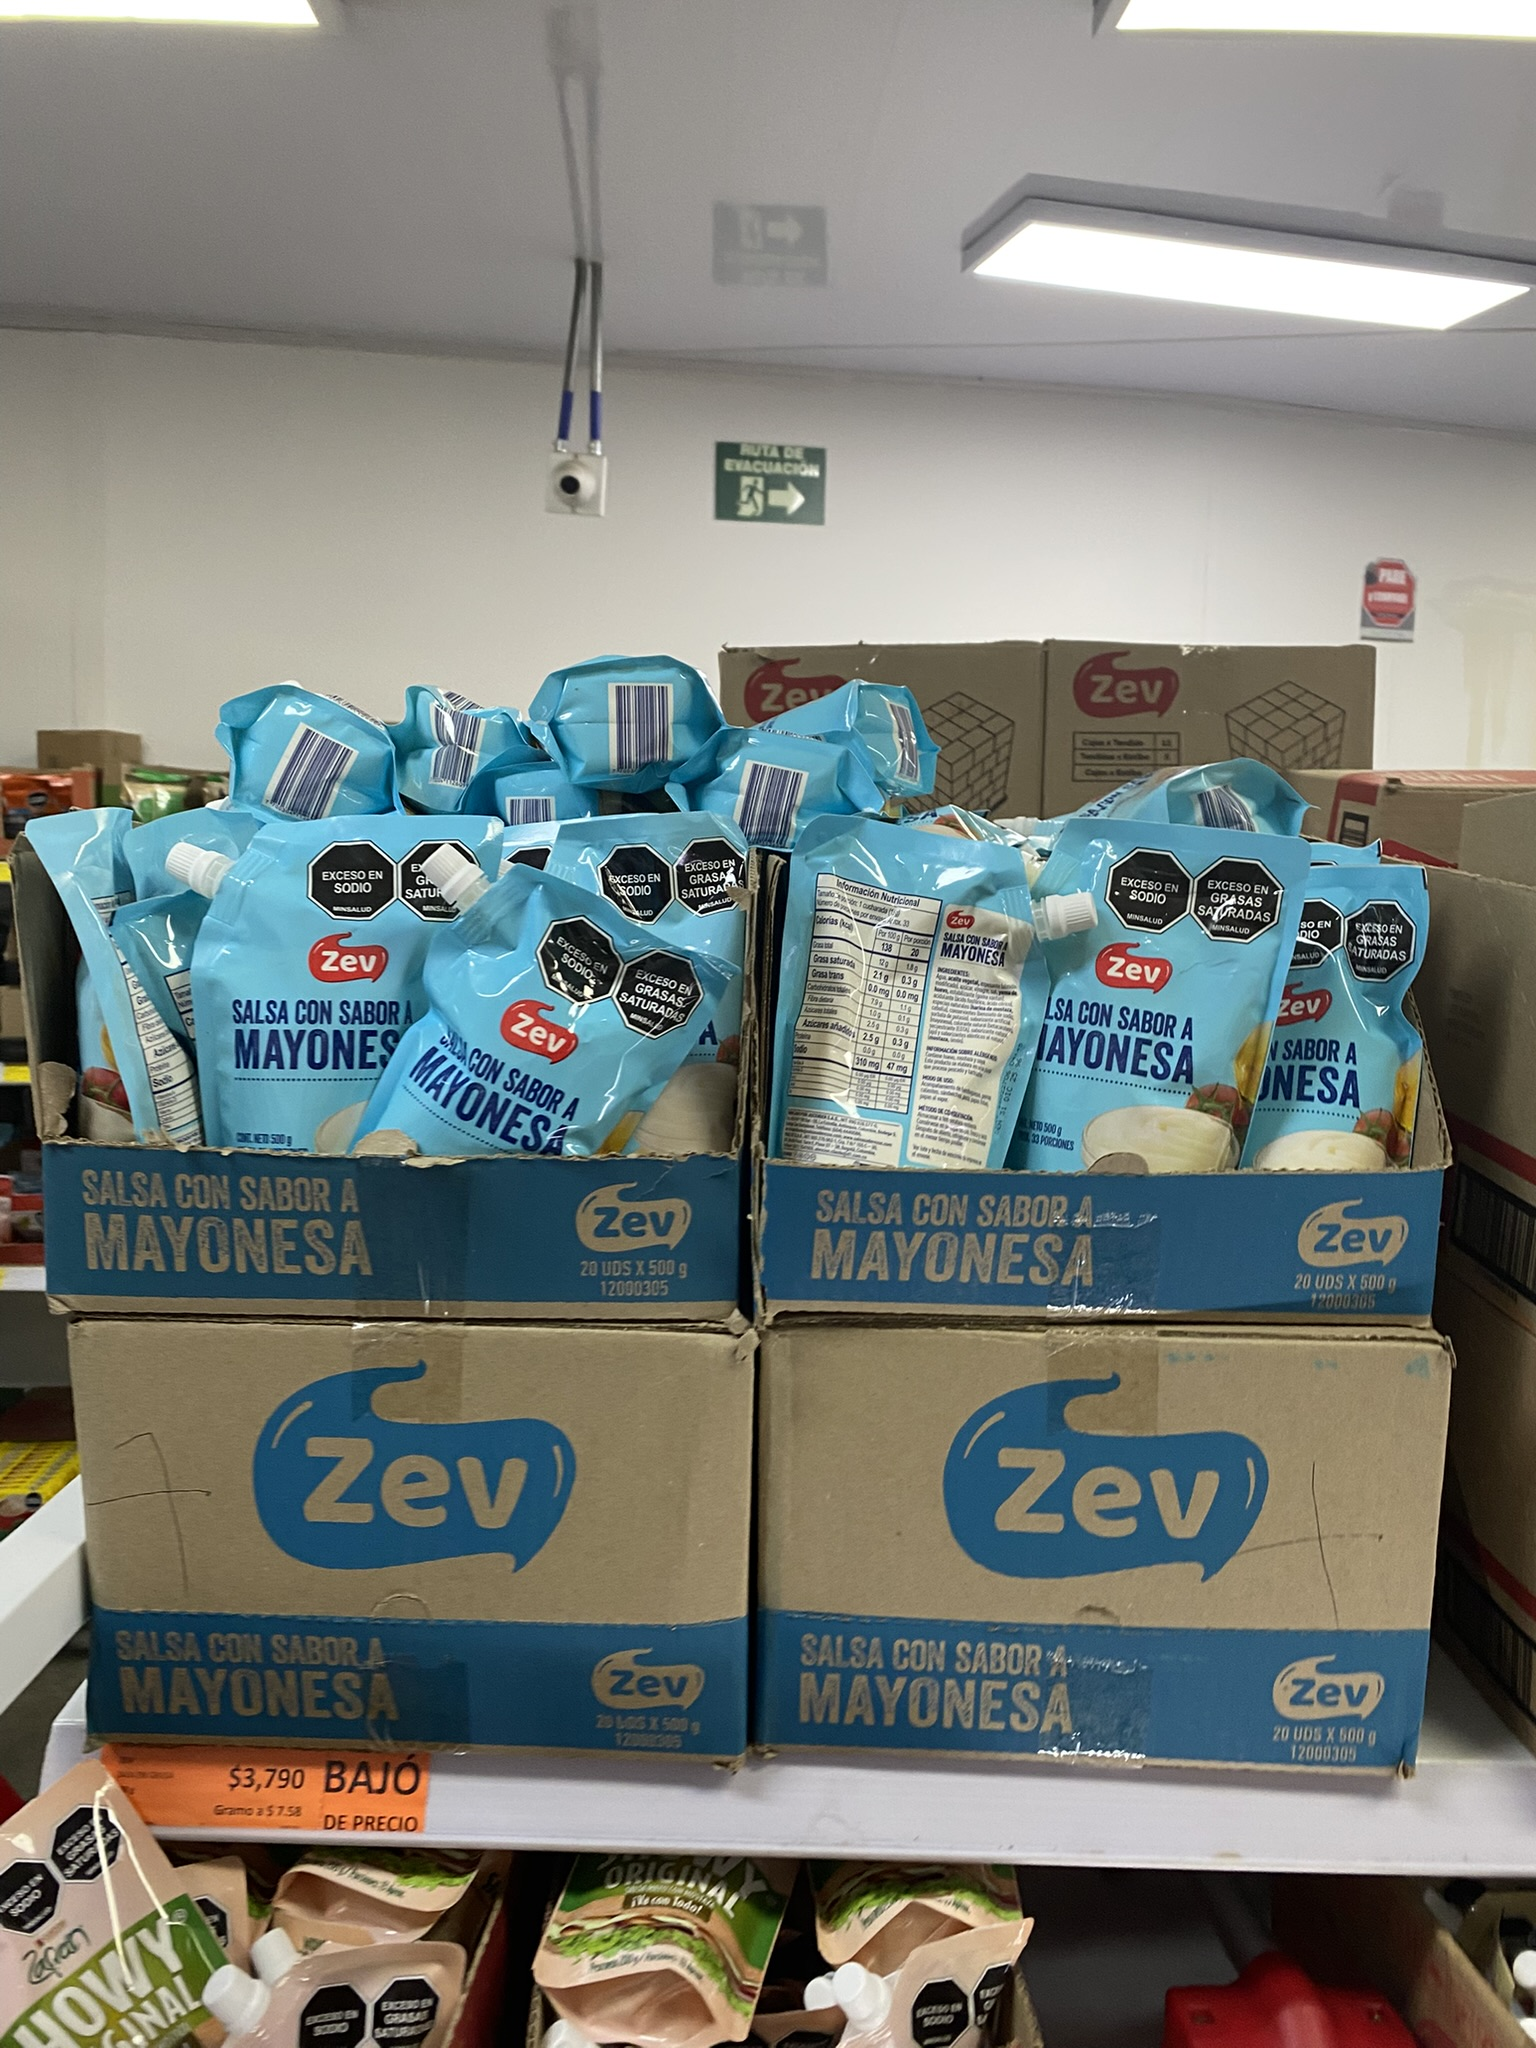Mayonesa: (360, 845, 750, 1192), (160, 819, 500, 1206), (779, 811, 1086, 1211), (1010, 829, 1333, 1184), (1250, 866, 1436, 1174)
